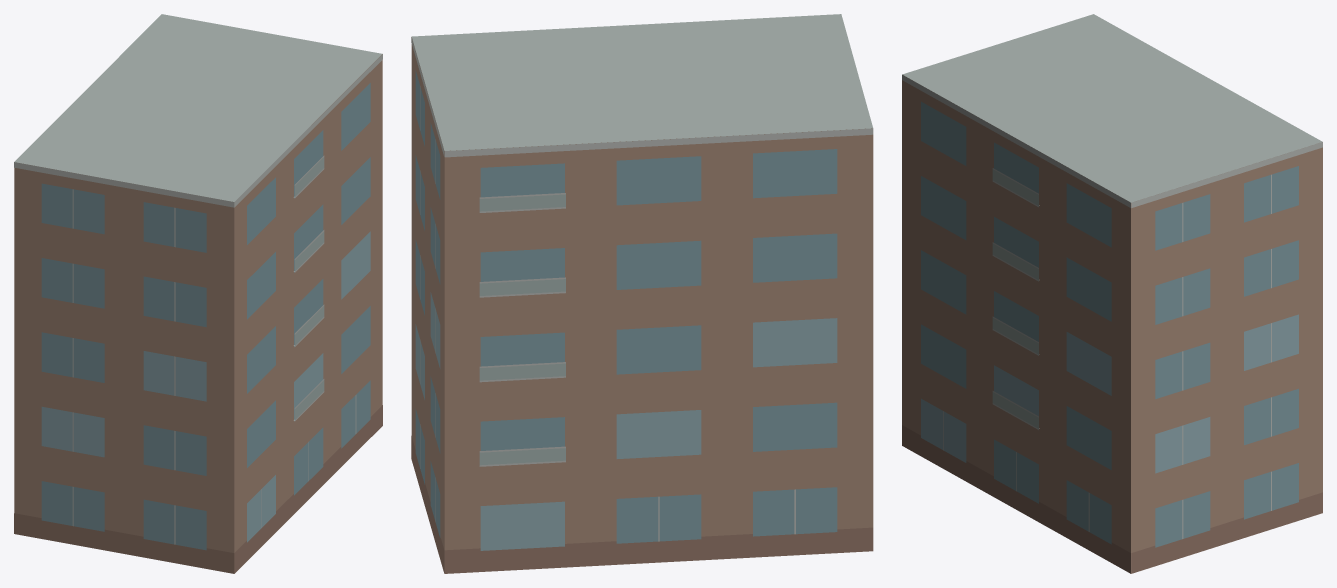
Rendered from survey-upis-32850627.glb.
3 renders of one model, left to right at view 1: azimuth 30°, elevation 25°; view 2: azimuth 150°, elevation 25°; view 3: azimuth 270°, elevation 25°, orthographic. The views are drawn at different scales.
Visible parts, largest first — view 1: survey-upis-32850627.tmp; view 2: survey-upis-32850627.tmp; view 3: survey-upis-32850627.tmp.
Boxes of the visible parts, x1,y1,x2,y2 form: survey-upis-32850627.tmp: [14, 14, 382, 573]; survey-upis-32850627.tmp: [411, 14, 873, 573]; survey-upis-32850627.tmp: [902, 14, 1322, 573].
Bounding box in the file's own units: 17.56 × 16.1 × 16.55.
